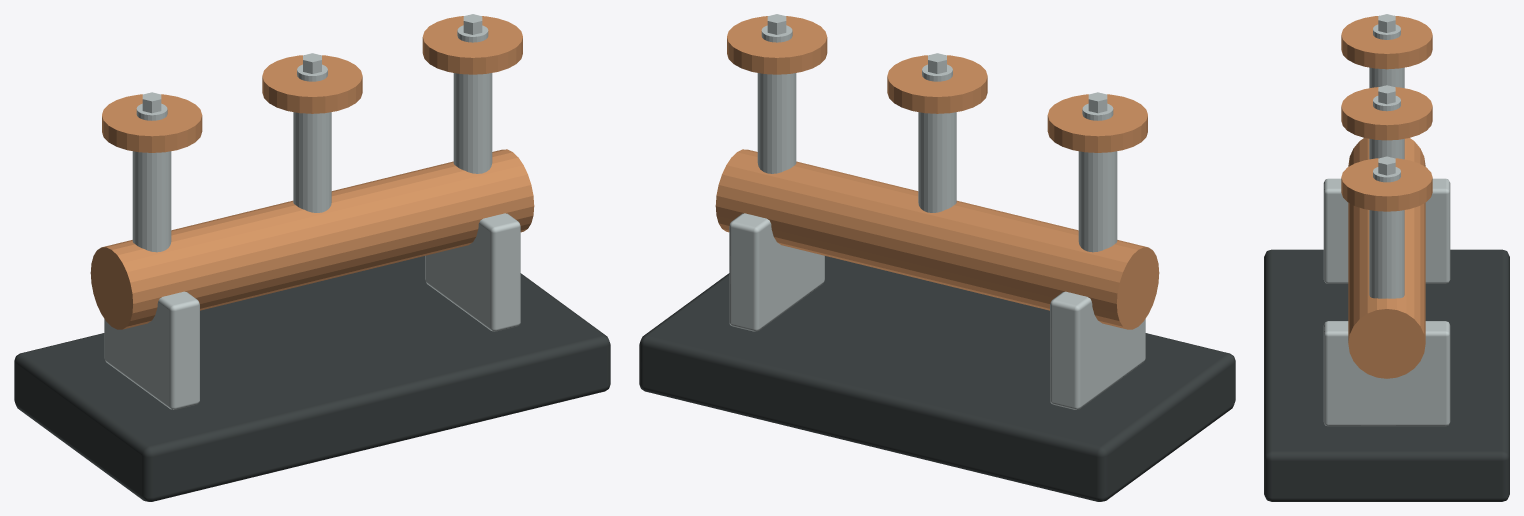
Rendered from generation-ship-hydroponics-generation-ship-hydroponic-9663655d__31483.glb.
The picture shows the model from 3 angles, left to right: view 1: azimuth 30°, elevation 25°; view 2: azimuth 150°, elevation 25°; view 3: azimuth 270°, elevation 25°; orthographic projection. The views are drawn at different scales.
Parts seen in each view (by area): view 1: generation-ship-hydroponics-mixing-manifold; view 2: generation-ship-hydroponics-mixing-manifold; view 3: generation-ship-hydroponics-mixing-manifold.
Part boxes in pixels (x1,y1,x2,y2): generation-ship-hydroponics-mixing-manifold: [14, 14, 610, 501]; generation-ship-hydroponics-mixing-manifold: [639, 14, 1235, 501]; generation-ship-hydroponics-mixing-manifold: [1264, 14, 1509, 501].
Bounding box in the file's own units: 0.7 × 0.49 × 0.3501.
